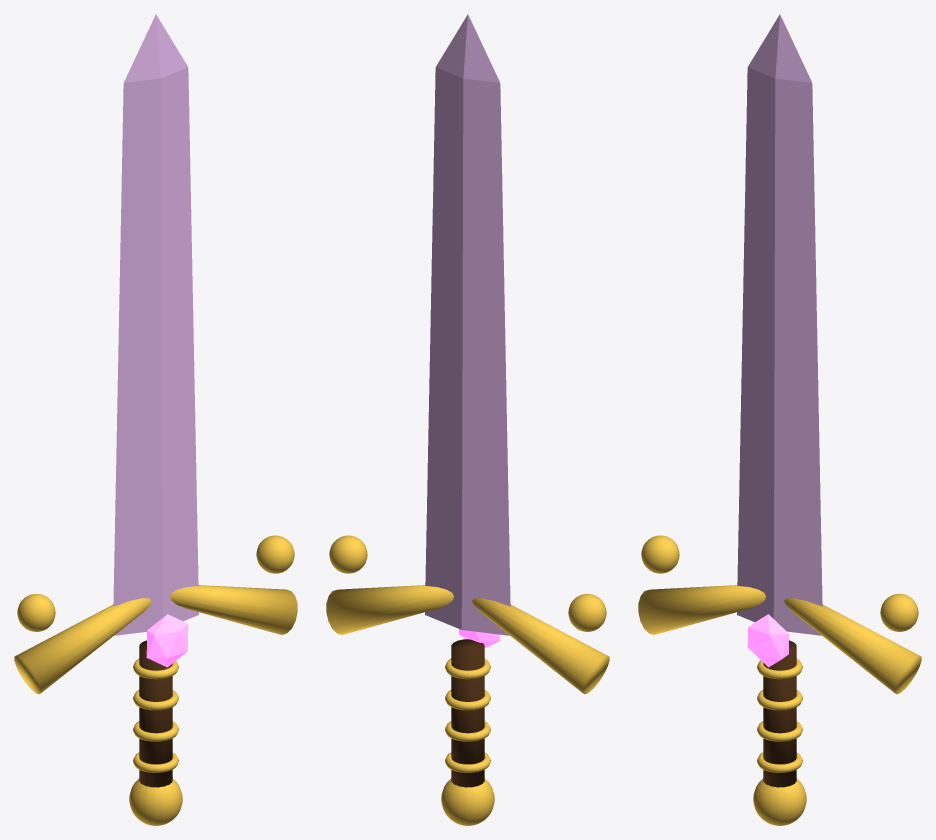
File: sword-5.glb
3 views of the same model, side by side, from view 1: azimuth 30°, elevation 25°; view 2: azimuth 150°, elevation 25°; view 3: azimuth 330°, elevation 25° (orthographic).
Visible parts, largest first — view 1: Blade, Wrap0, Gem; view 2: Blade, Wrap0; view 3: Blade, Wrap0, Gem.
Boxes of the visible parts, x1=… form: Blade: x1=14, y1=14, x2=297, y2=825; Wrap0: x1=133, y1=658, x2=178, y2=772; Gem: x1=146, y1=614, x2=188, y2=667; Blade: x1=326, y1=14, x2=609, y2=825; Wrap0: x1=445, y1=658, x2=490, y2=772; Blade: x1=638, y1=14, x2=921, y2=825; Wrap0: x1=757, y1=658, x2=802, y2=772; Gem: x1=747, y1=614, x2=789, y2=667.
Bounding box in the file's own units: 0.41 × 1.16 × 0.0799.
4 materials, 4 textured.
